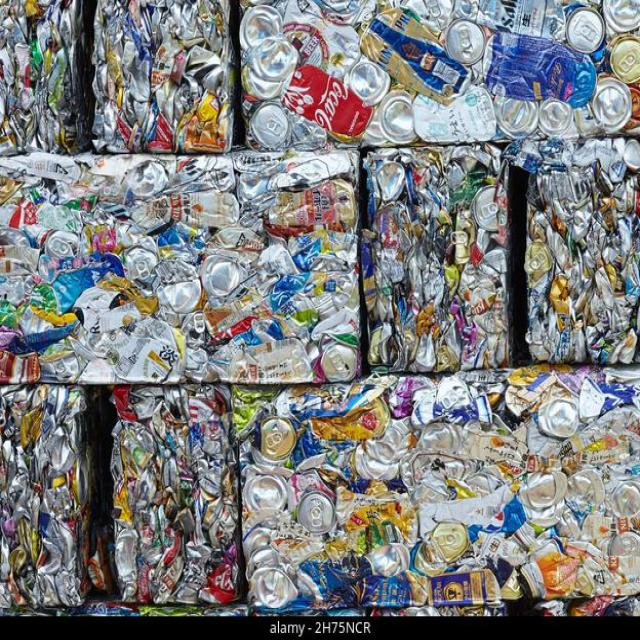metal: (12, 13, 626, 561)
